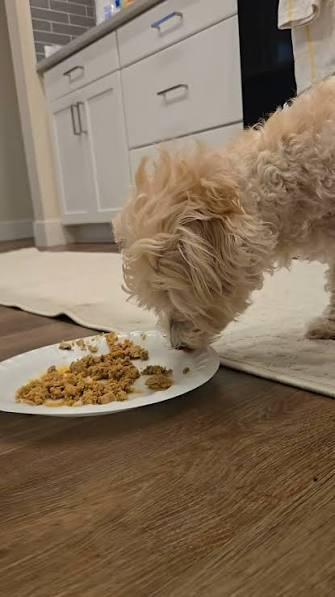adult_dog: (116, 73, 335, 352)
